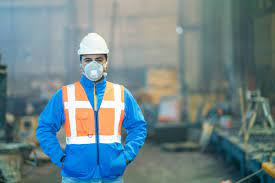Helmet: (72, 33, 110, 56)
Jacket: (61, 84, 132, 145)
Mask: (83, 62, 110, 82)
